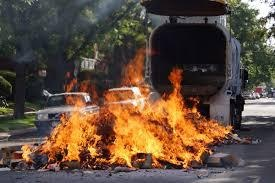fire: (22, 42, 236, 173)
